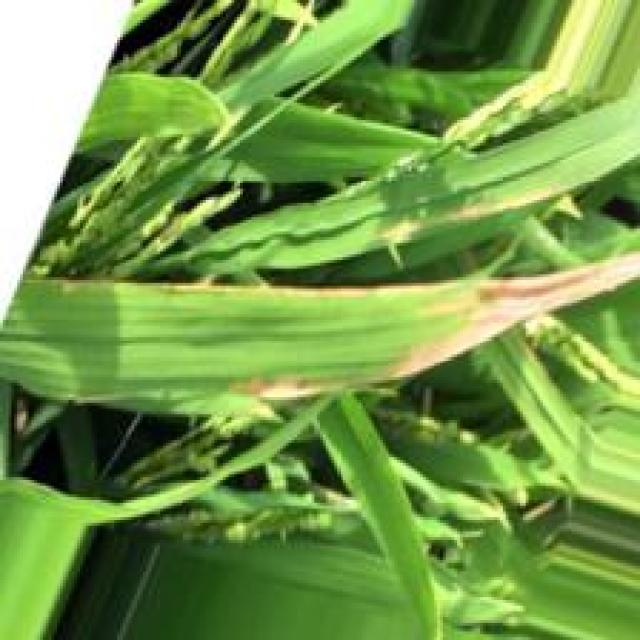Unhealthy: (388, 254, 640, 380), (366, 191, 559, 243), (41, 274, 442, 297), (237, 378, 322, 400)
